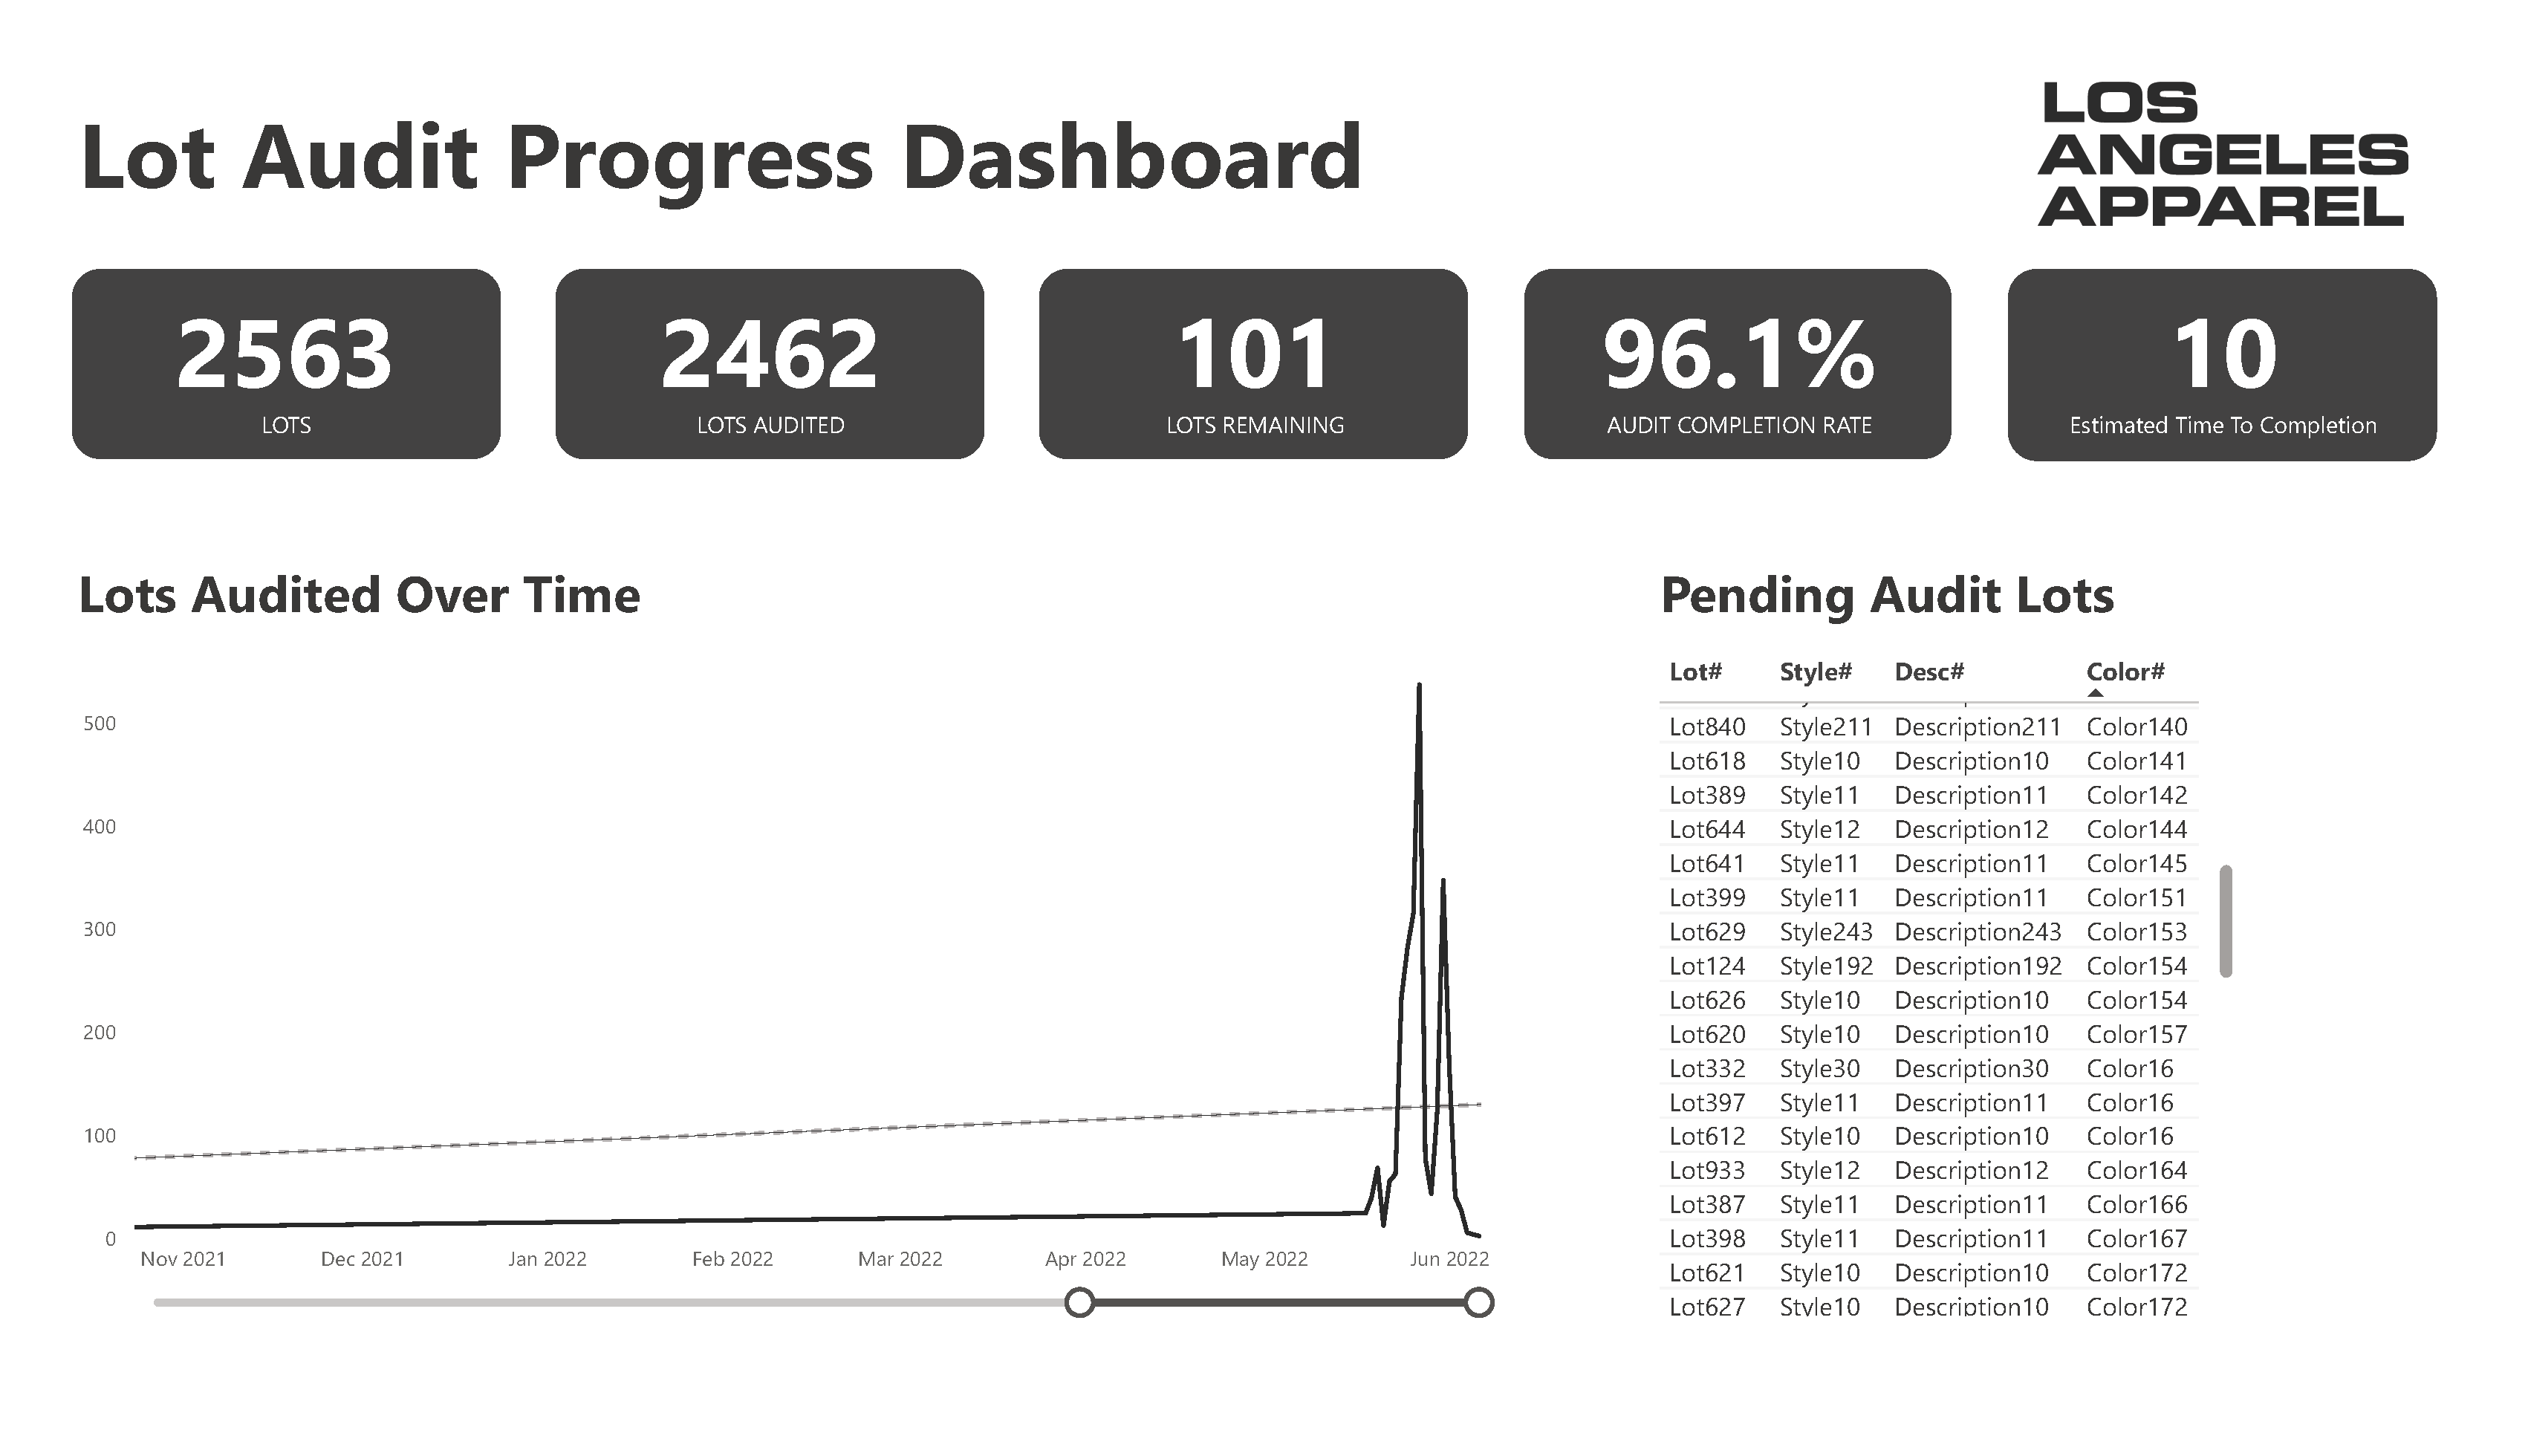

The dashboard page shown, as its layout file describes it:
{"tool":"powerbi","page":{"name":"Dashboard","canvas":[1280,720],"ordinal":0},"visuals":[{"type":"image","title":"LAA Logo","box":[1041.1,7.1,204.6,99.8],"z":0},{"type":"card","fields":{"Values":["Measure Table.Total Lots"]},"box":[0,82.7,253,168.3],"z":0,"group":"g3"},{"type":"shape","box":[14.2,117.9,224.8,100.3],"z":0,"group":"g2"},{"type":"group","id":"g1","title":"KPIs","box":[0,82.7,1015.9,168.3],"z":1000},{"type":"group","id":"g2","title":"KPI Backgrounds","box":[14.2,117.9,987.4,100.3],"z":1000,"group":"g1"},{"type":"shape","box":[522.6,117.9,224.8,100.3],"z":1000,"group":"g2"},{"type":"group","id":"g3","title":"KPI Values","box":[0,82.7,1015.9,168.3],"z":2000,"group":"g1"},{"type":"card","fields":{"Values":["Measure Table.Lots Audited"]},"box":[255,82.7,252,168.3],"z":2000,"group":"g3"},{"type":"shape","box":[776.8,117.9,224.8,100.3],"z":2000,"group":"g2"},{"type":"lineChart","title":"Lots Audited Over Time","fields":{"Category":["lots_table.System Entry Date.Variation.Date Hierarchy.Year","lots_table.System Entry Date.Variation.Date Hierarchy.Quarter","lots_table.System Entry Date.Variation.Date Hierarchy.Month","lots_table.System Entry Date.Variation.Date Hierarchy.Day"],"Y":["Measure Table.Lots Audited"]},"box":[14.1,316.5,765,357.8],"z":2000},{"type":"card","fields":{"Values":["Measure Table.Lots Remaining"]},"box":[509,82.7,253,168.3],"z":3000,"group":"g3"},{"type":"shape","box":[268.4,117.9,224.8,100.3],"z":3000,"group":"g2"},{"type":"shape","box":[1031.1,117.9,224.8,100.8],"z":3000},{"type":"card","fields":{"Values":["Measure Table.Percentage of Completion"]},"box":[764,82.7,252,168.3],"z":4000,"group":"g3"},{"type":"tableEx","fields":{"Values":["lots_table.Lot#","lots_table.Style#","lots_table.Desc#","lots_table.Color#"]},"box":[842.1,315.9,312.5,358.9],"z":4000},{"type":"textbox","box":[12.1,18.1,749.9,81.6],"z":5000},{"type":"card","fields":{"Values":["Measure Table.Estimated Time To Completion"]},"box":[1018,82.7,252,168.3],"z":6000},{"type":"textbox","box":[12.1,265.1,332.6,51.4],"z":7000},{"type":"textbox","box":[842.6,265.1,332.6,51.4],"z":8000}]}

Visuals, with their boxes in screenshot pixels (x1, y1, x2, y2), scaled from the page's 1280x720 canvas onto the 2528x1456 screenshot:
"LAA Logo" image: locate(2056, 14, 2460, 216)
card - Measure Table.Total Lots: locate(0, 167, 500, 507)
shape: locate(28, 238, 472, 441)
"KPIs" group: locate(0, 167, 2007, 507)
"KPI Backgrounds" group: locate(28, 238, 1978, 441)
shape: locate(1032, 238, 1476, 441)
"KPI Values" group: locate(0, 167, 2007, 507)
card - Measure Table.Lots Audited: locate(504, 167, 1001, 507)
shape: locate(1534, 238, 1978, 441)
"Lots Audited Over Time" lineChart: locate(27, 640, 1538, 1364)
card - Measure Table.Lots Remaining: locate(1005, 167, 1505, 507)
shape: locate(530, 238, 974, 441)
shape: locate(2036, 238, 2480, 442)
card - Measure Table.Percentage of Completion: locate(1509, 167, 2007, 507)
tableEx - lots_table.Lot# x lots_table.Style#: locate(1663, 639, 2281, 1365)
textbox: locate(24, 36, 1505, 201)
card - Measure Table.Estimated Time To Completion: locate(2010, 167, 2508, 507)
textbox: locate(24, 536, 680, 640)
textbox: locate(1664, 536, 2321, 640)
